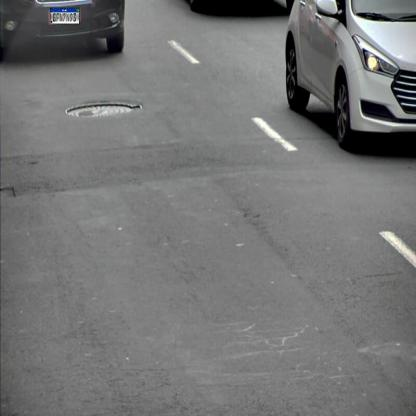PlacaM: (50, 8, 79, 24)
